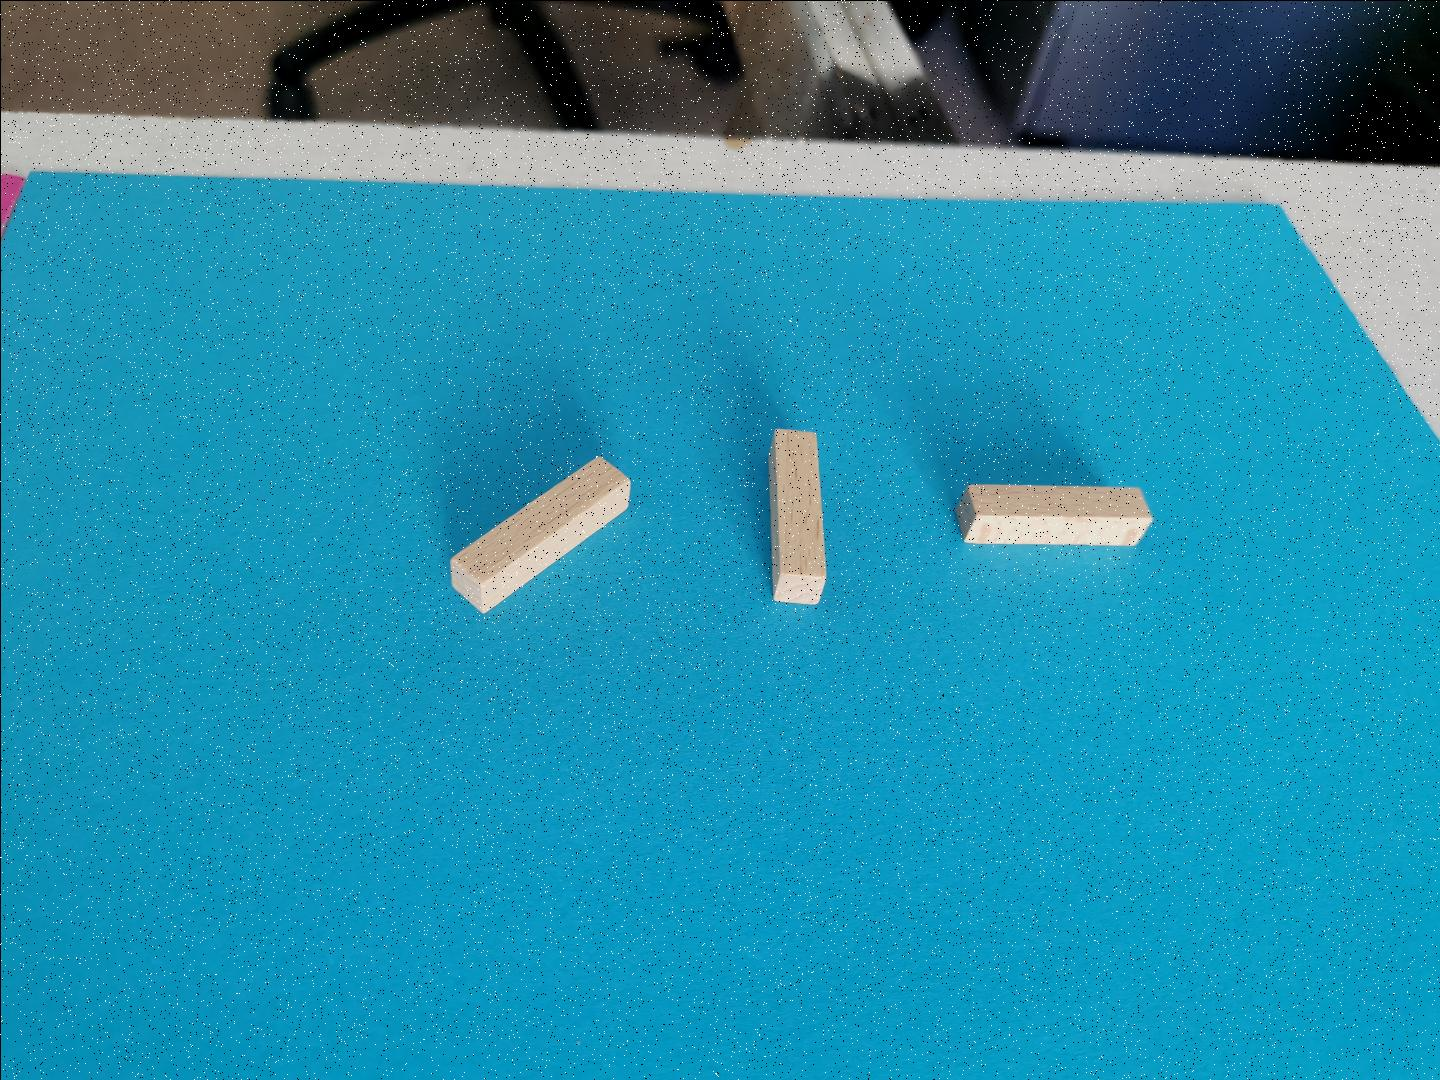jenga: (450, 456, 630, 610), (956, 483, 1151, 546), (768, 428, 824, 605)
